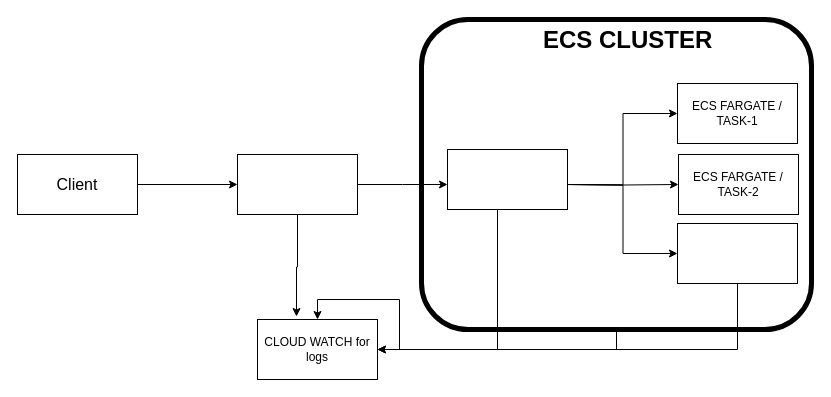
This 831x397 diagram has some shape labels left out. The centre of each missing label's shape, as x and y in pixels:
"ECS FARGATE / TASK-3" goes at (x=737, y=253).
"ECS SERVICE" goes at (x=507, y=179).
"Load balancer PORT : 80" goes at (x=297, y=184).
